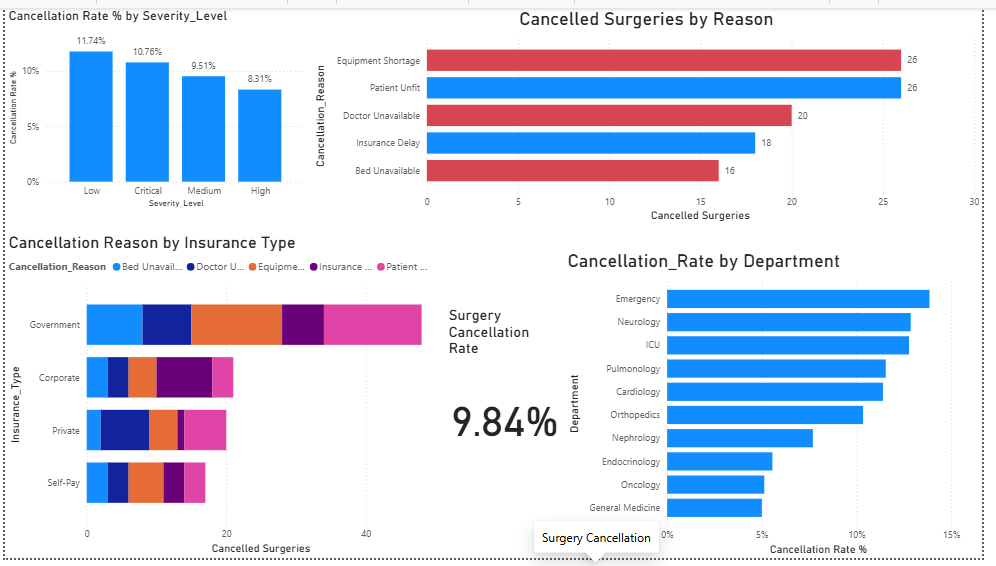

Layout of this report page (visuals, bound fields, positions):
{"tool":"powerbi","page":{"name":"Surgery Cancellation","canvas":[1280,720],"ordinal":4},"visuals":[{"type":"card","title":"Surgery Cancellation Rate","fields":{"Values":["Healthcare_Master.Cancellation Rate %"]},"box":[575.6,389.7,155.5,223.5],"z":0},{"type":"clusteredBarChart","title":"Cancelled Surgeries by Reason","fields":{"Category":["Healthcare_Master.Cancellation_Reason"],"Y":["Healthcare_Master.Cancelled Surgeries"]},"box":[398.7,0,881.3,284.2],"z":1000},{"type":"clusteredBarChart","title":"Cancellation_Rate by Department","fields":{"Category":["Healthcare_Master.Department"],"Y":["Healthcare_Master.Cancellation Rate %"]},"box":[731.2,316.4,548.8,404],"z":2000},{"type":"clusteredColumnChart","fields":{"Category":["Healthcare_Master.Severity_Level"],"Y":["Healthcare_Master.Cancellation Rate %"]},"box":[0,0,398.7,266.4],"z":3000},{"type":"barChart","title":"Cancellation Reason by Insurance Type","fields":{"Category":["Healthcare_Master.Insurance_Type"],"Y":["Healthcare_Master.Cancelled Surgeries"],"Series":["Healthcare_Master.Cancellation_Reason"]},"box":[0,295,575.6,425.5],"z":4000}]}

Visuals, with their boxes in screenshot pixels (x1, y1, x2, y2), scaled from the page's 1280x720 canvas onto the 996x566 screenshot:
"Surgery Cancellation Rate" card: 448 306 569 482
"Cancelled Surgeries by Reason" clusteredBarChart: 310 0 995 223
"Cancellation_Rate by Department" clusteredBarChart: 569 249 995 565
clusteredColumnChart - Healthcare_Master.Severity_Level x Healthcare_Master.Cancellation Rate %: 0 0 310 209
"Cancellation Reason by Insurance Type" barChart: 0 232 448 565
